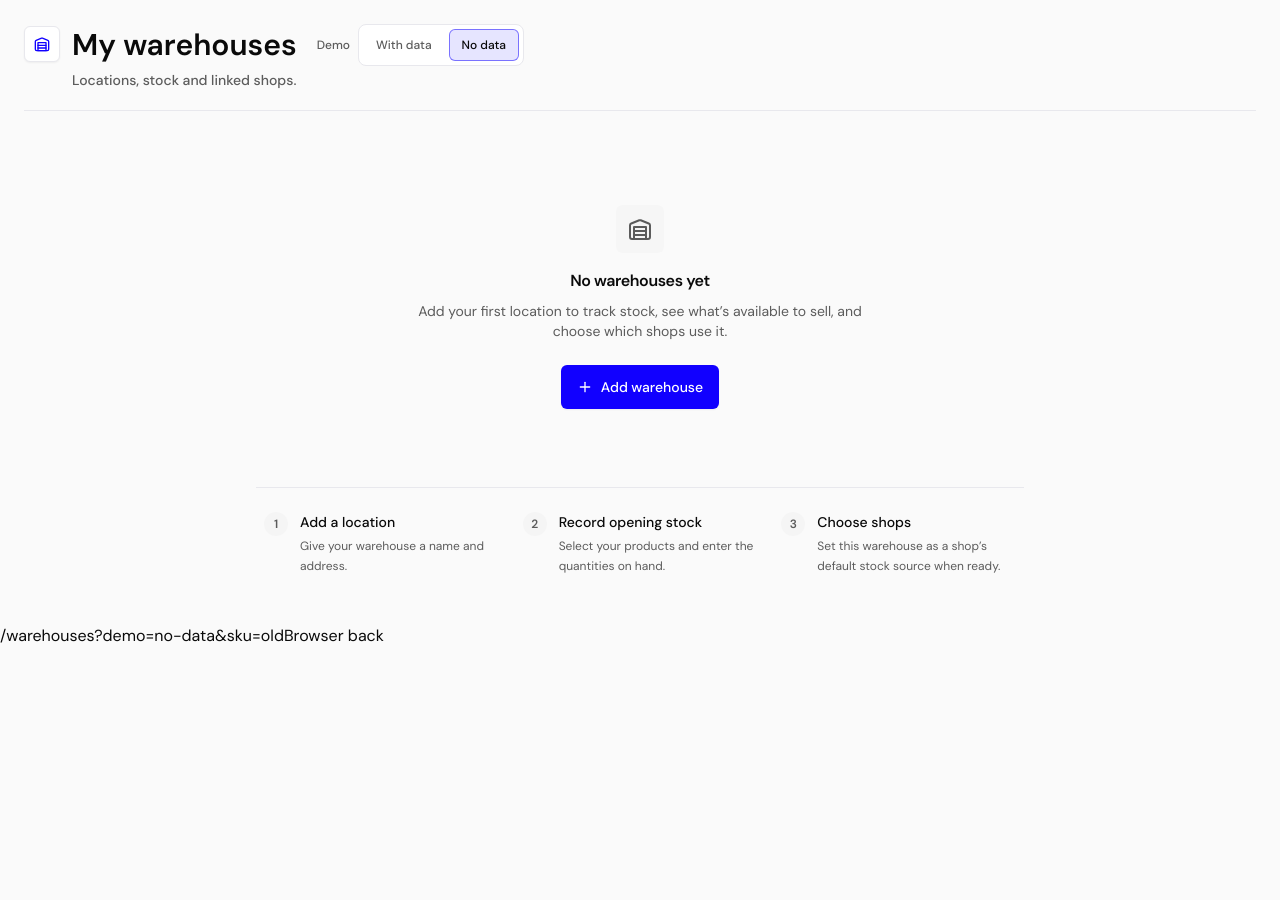
it: warehouse demo modes and first warehouse › creates a warehouse from No data and opens its opening-stock setup in With data
Click the button "Add warehouse" at (640, 387), box [561,365,719,409]
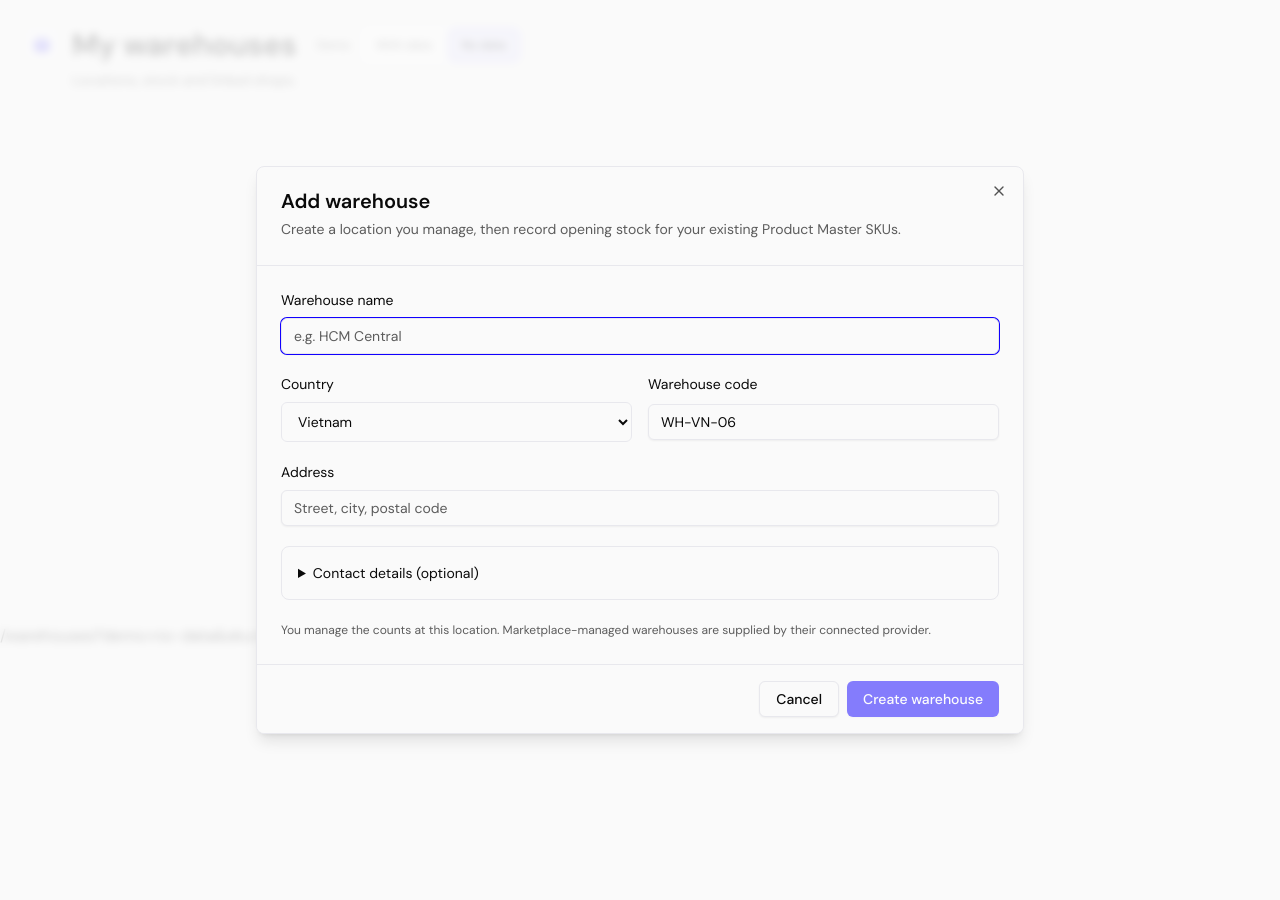
Result: the button "Create warehouse" is disabled at [847,681,999,717]
Type "First warehouse QA" into the field labelled "Warehouse name" at (640, 336), box [281,318,999,354]
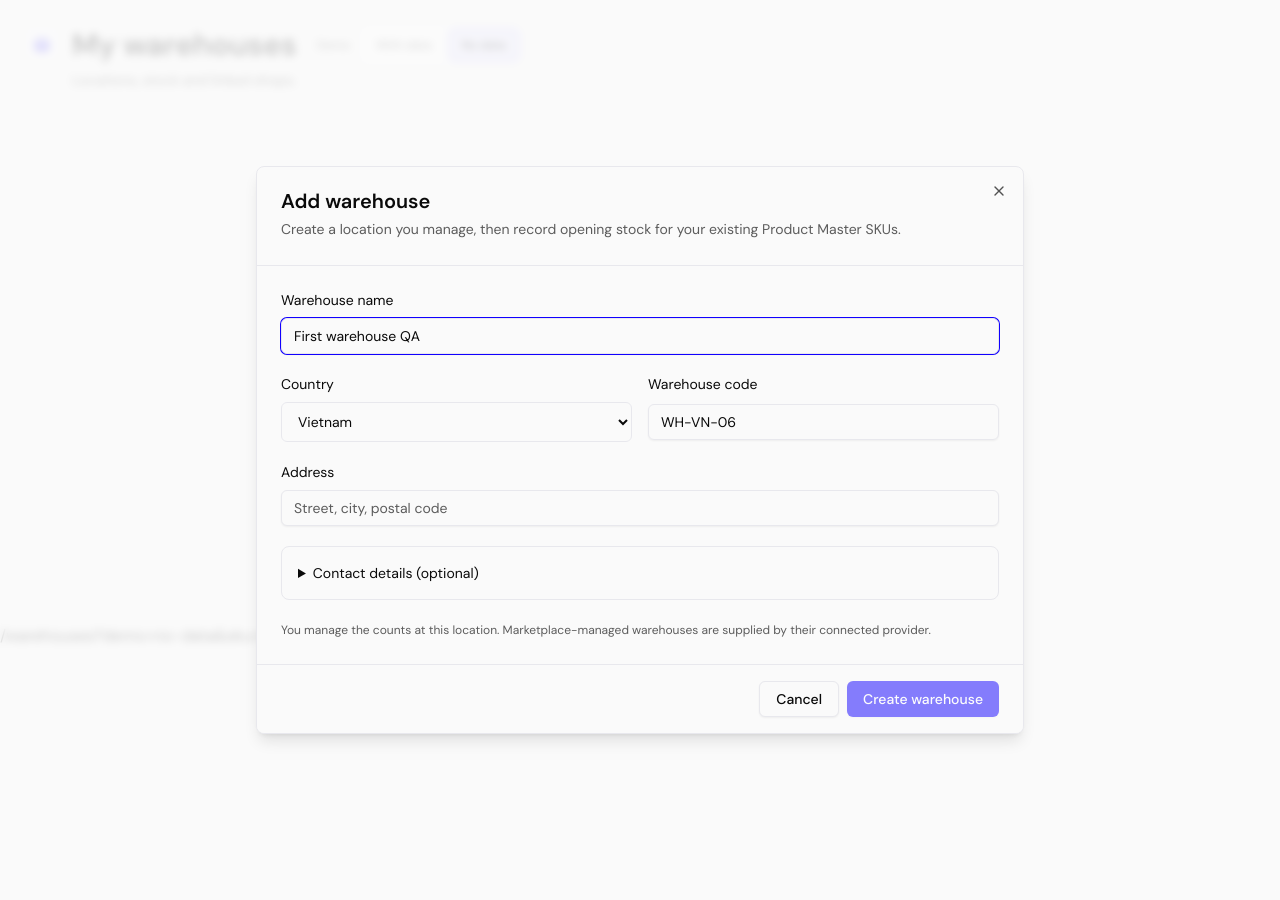
Replace the text in the field labelled "Warehouse code" with "EMPTY-QA" at (824, 422), box [648,404,999,440]
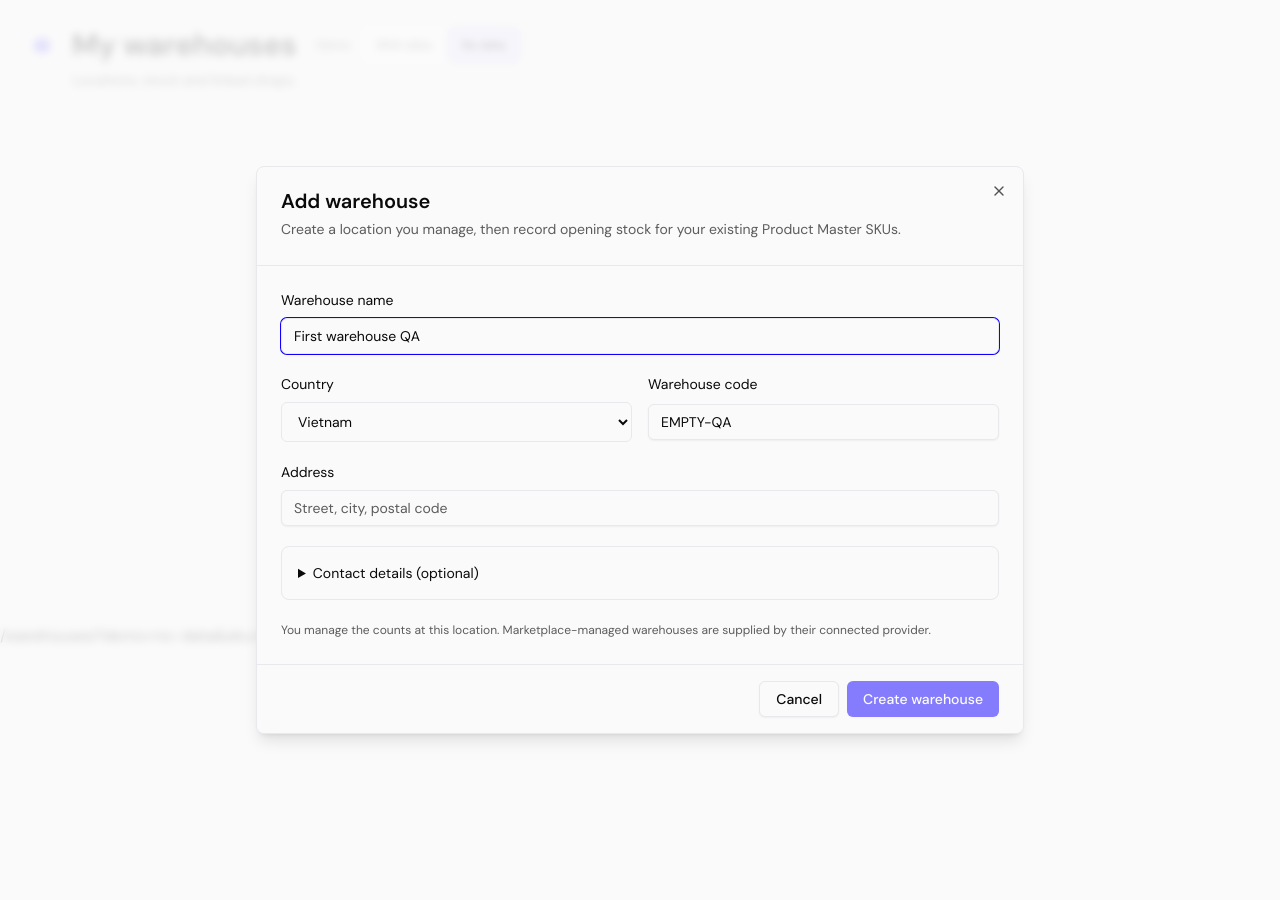
Type "12 Demo Street, HCM" into the field labelled "Address" at (640, 508), box [281,490,999,526]
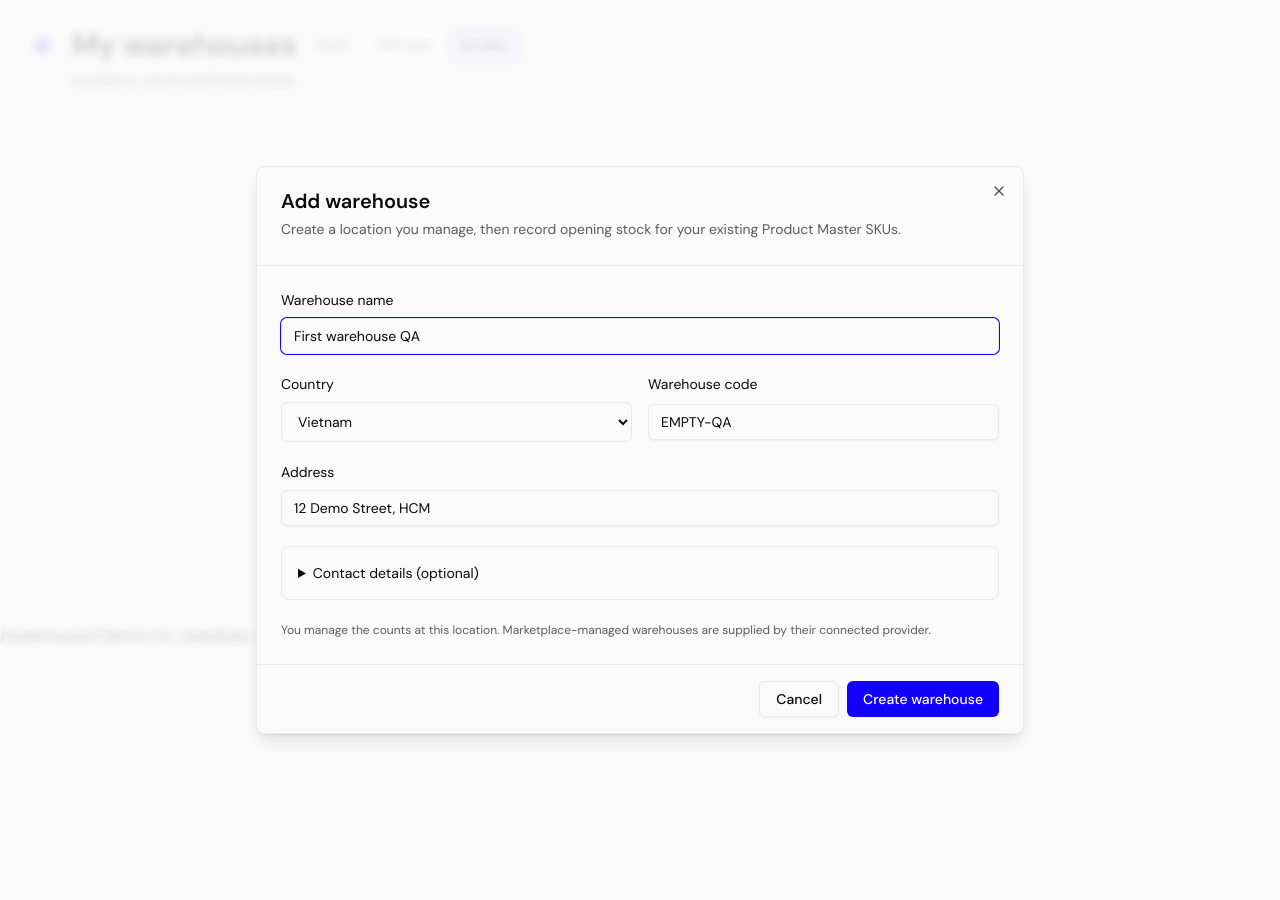
Click the button "Create warehouse" at (923, 699), box [847,681,999,717]
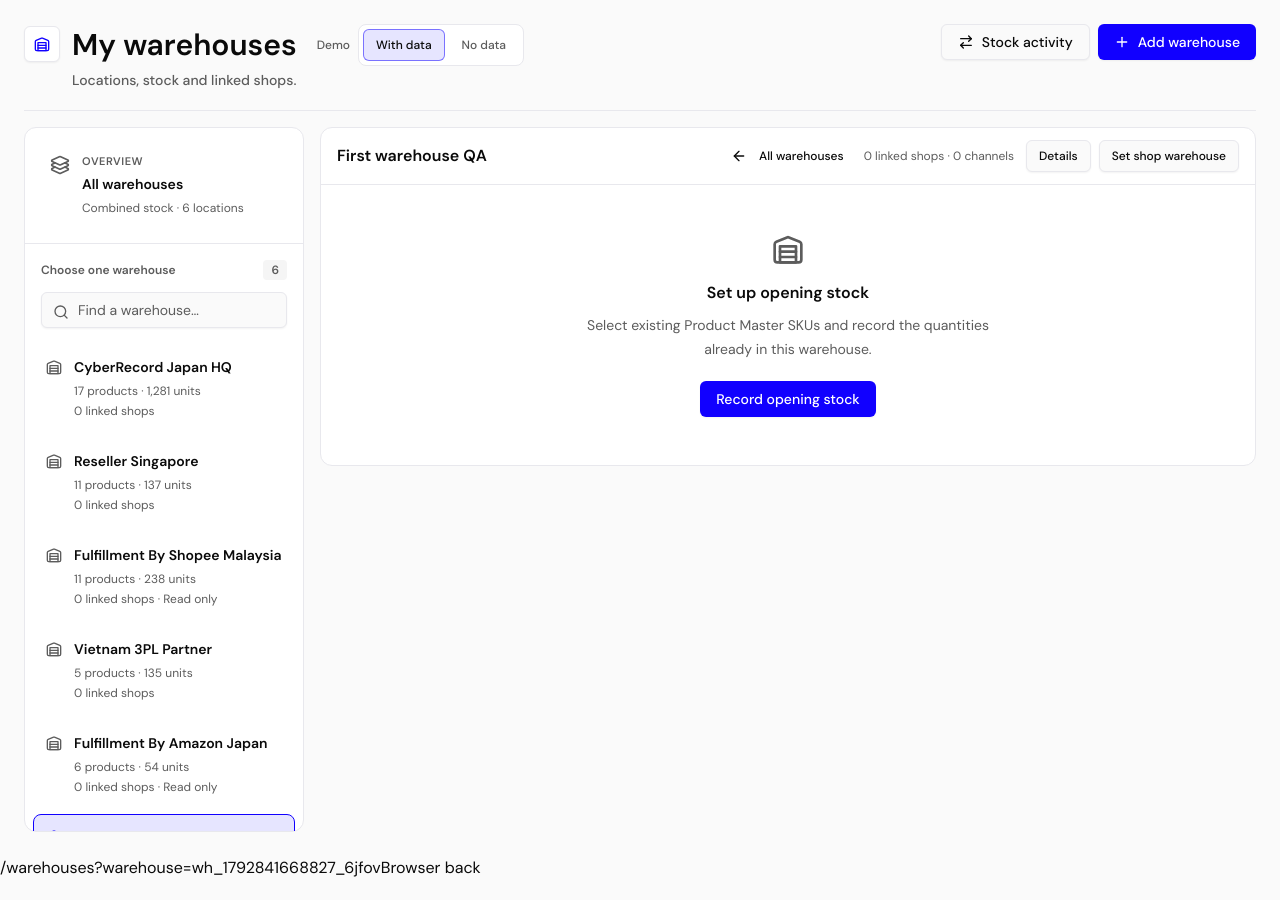
Result: the heading "Set up opening stock" is shown at [707,282,869,303]
Click the button "Record opening stock" at (788, 399), box [700,381,876,417]
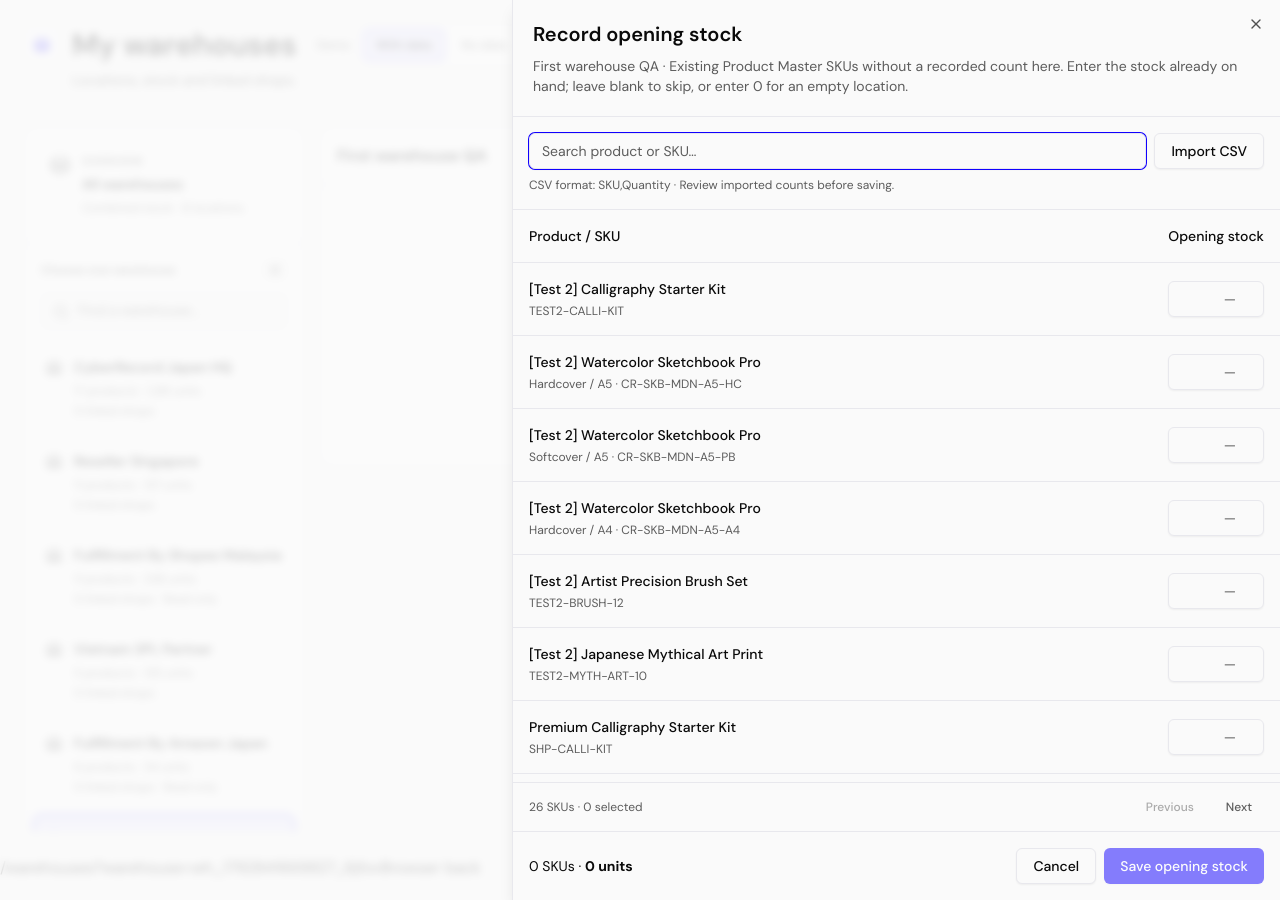
Result: the dialog "Record opening stock" is shown at [512,0,1279,899]
